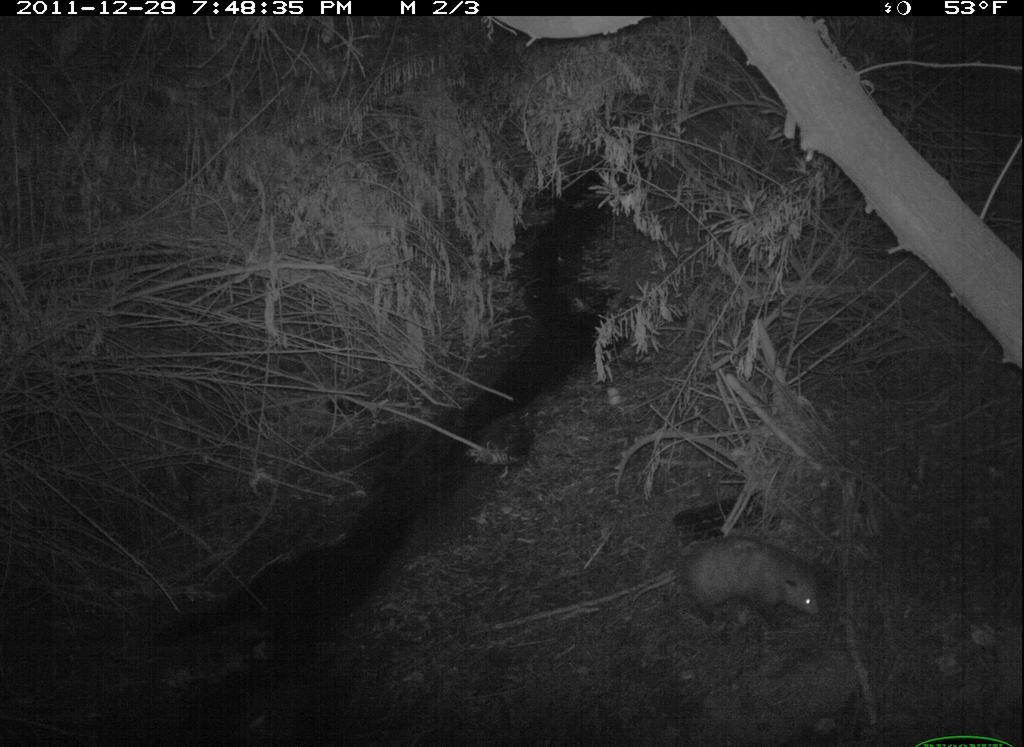opossum: (648, 521, 841, 656)
